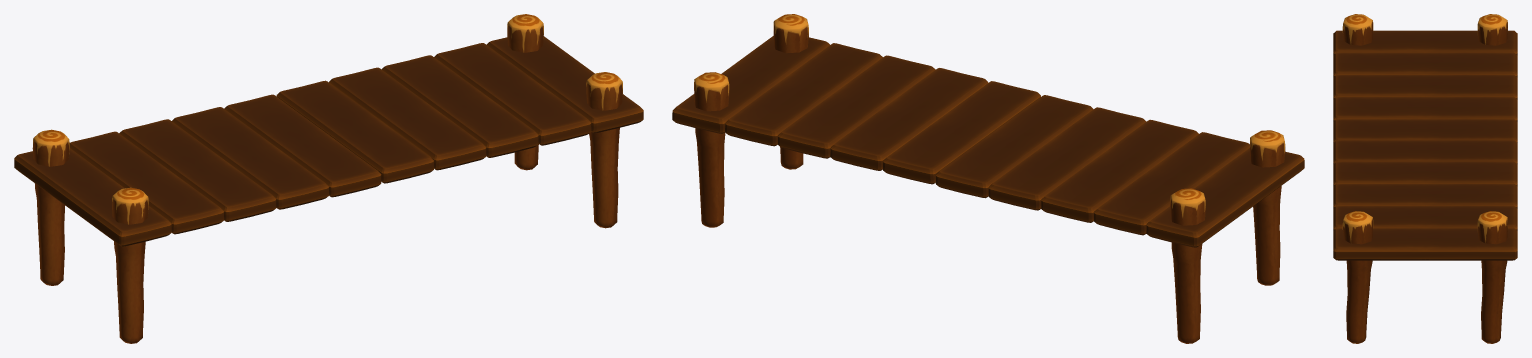
Rendered from dock.fbx.
3 renders of one model, left to right at view 1: azimuth 30°, elevation 25°; view 2: azimuth 150°, elevation 25°; view 3: azimuth 270°, elevation 25°, orthographic. The views are drawn at different scales.
Visible parts, largest first — view 1: Cube.022, Cube.021, Cube.023, Cube.014, Cube.013, Cube.020, Cube.019, Cube.018, Cube.017, Cube.024, log.002, log.004 (+2 smaller); view 2: Cube.022, Cube.021, Cube.014, Cube.023, Cube.013, Cube.020, Cube.019, Cube.018, Cube.017, Cube.024, log.001, log.005 (+2 smaller); view 3: Cube.024, Cube.018, Cube.014, Cube.021, Cube.020, Cube.019, Cube.022, Cube.013, Cube.017, Cube.023, log.004, log.005 (+2 smaller).
Part boxes in pixels (box(x1,y1,x2,y2)): Cube.022: box(276, 80, 433, 183); Cube.021: box(329, 67, 486, 170); Cube.023: box(434, 43, 591, 145); Cube.014: box(172, 107, 328, 209); Cube.013: box(224, 94, 381, 197); Cube.020: box(381, 55, 538, 157); Cube.019: box(119, 119, 276, 221); Cube.018: box(69, 131, 223, 234); Cube.017: box(14, 148, 171, 246); Cube.024: box(486, 36, 643, 133); log.002: box(112, 187, 148, 343); log.004: box(586, 72, 622, 228); Cube.022: box(883, 81, 1040, 184); Cube.021: box(830, 68, 988, 170); Cube.014: box(988, 107, 1146, 210); Cube.023: box(725, 43, 882, 146); Cube.013: box(935, 95, 1093, 198); Cube.020: box(777, 55, 935, 158); Cube.019: box(1041, 119, 1198, 222); Cube.018: box(1094, 132, 1249, 235); Cube.017: box(1146, 148, 1304, 247); Cube.024: box(672, 36, 829, 133); log.001: box(1170, 188, 1205, 343); log.005: box(694, 72, 729, 227); Cube.024: box(1333, 228, 1517, 260); Cube.018: box(1333, 52, 1517, 77); Cube.014: box(1333, 97, 1517, 121); Cube.021: box(1333, 161, 1517, 186); Cube.020: box(1333, 184, 1517, 208); Cube.019: box(1333, 75, 1517, 99); Cube.022: box(1333, 140, 1517, 164); Cube.013: box(1333, 119, 1517, 142); Cube.017: box(1333, 30, 1517, 55); Cube.023: box(1333, 206, 1517, 230); log.004: box(1342, 211, 1373, 343); log.005: box(1477, 211, 1507, 343).
Bounding box in the file's own units: 1998 × 538 × 716.
